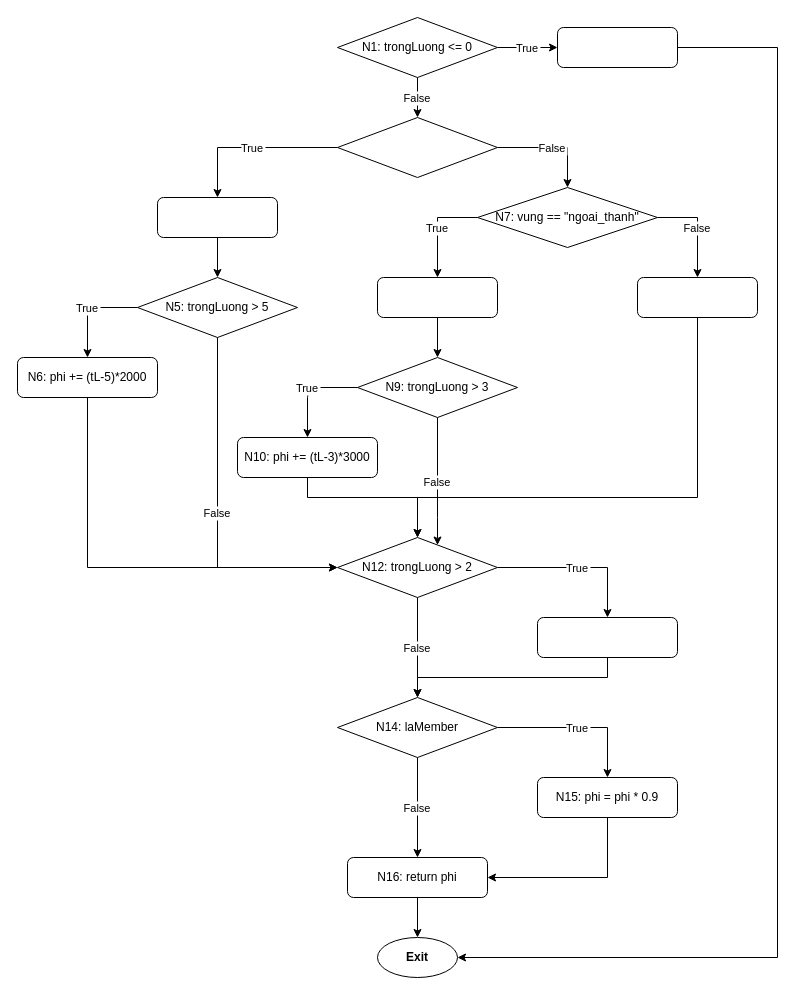
Image size: 803x995. Some labels were removed from this diagram. The centre of each missing label's shape, as x and y in pixels:
N11: phi = 50000: the point at 697,297
N13: phi += (tL-2)*5000: the point at 607,637
N2: throw Exception: the point at 617,47
N3: vung == "noi_thanh": the point at 417,147
N4: phi = 15000: the point at 217,217
N8: phi = 25000: the point at 437,297
